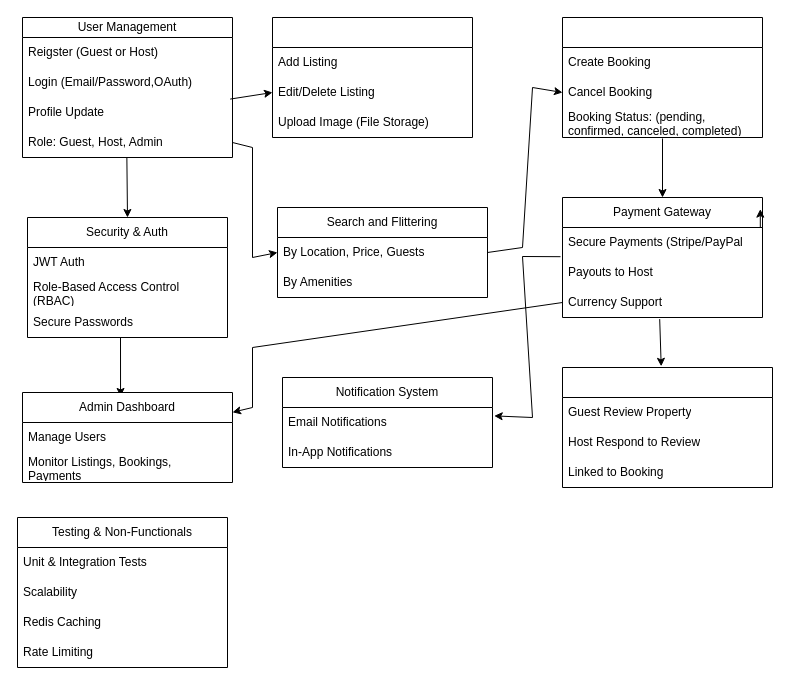
Image size: 790x685. Some labels were removed from this diagram. Each missing label, with the box of its shape:
Booking System: (562, 16, 762, 138)
Property Listing: (272, 16, 472, 138)
Reviews & Ratings: (562, 366, 772, 488)
